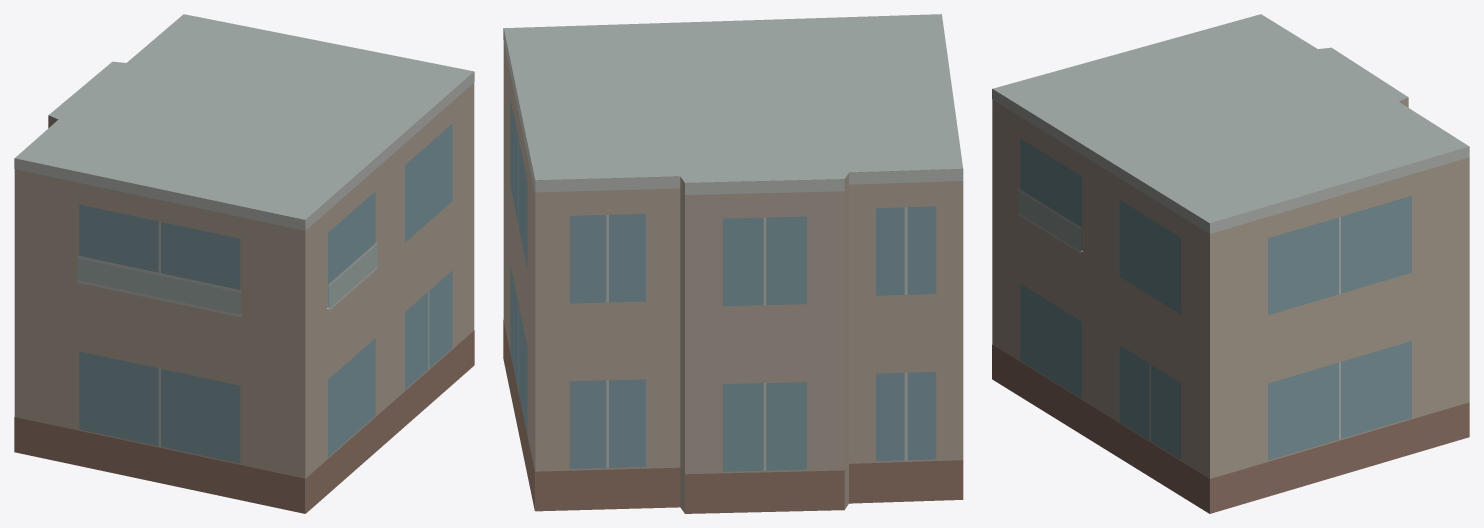
File: survey-upis-32474425.glb
The picture shows the model from 3 angles, left to right: view 1: azimuth 30°, elevation 25°; view 2: azimuth 150°, elevation 25°; view 3: azimuth 270°, elevation 25°; orthographic projection. The views are drawn at different scales.
Visible parts, largest first — view 1: survey-upis-32474425.tmp; view 2: survey-upis-32474425.tmp; view 3: survey-upis-32474425.tmp.
Part boxes in pixels (x1,y1,x2,y2): survey-upis-32474425.tmp: (14,14,474,513); survey-upis-32474425.tmp: (503,14,963,513); survey-upis-32474425.tmp: (992,14,1469,513).
Bounding box in the file's own units: 10.21 × 6.6 × 9.84.
